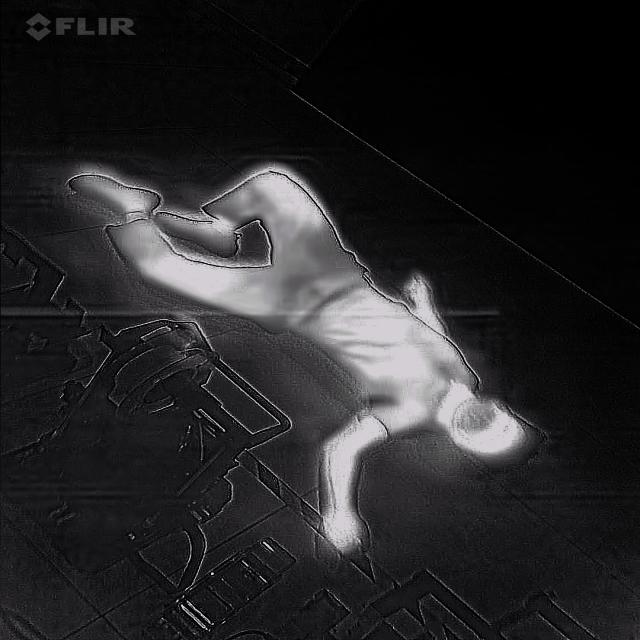Victim: (55, 156, 556, 566)
